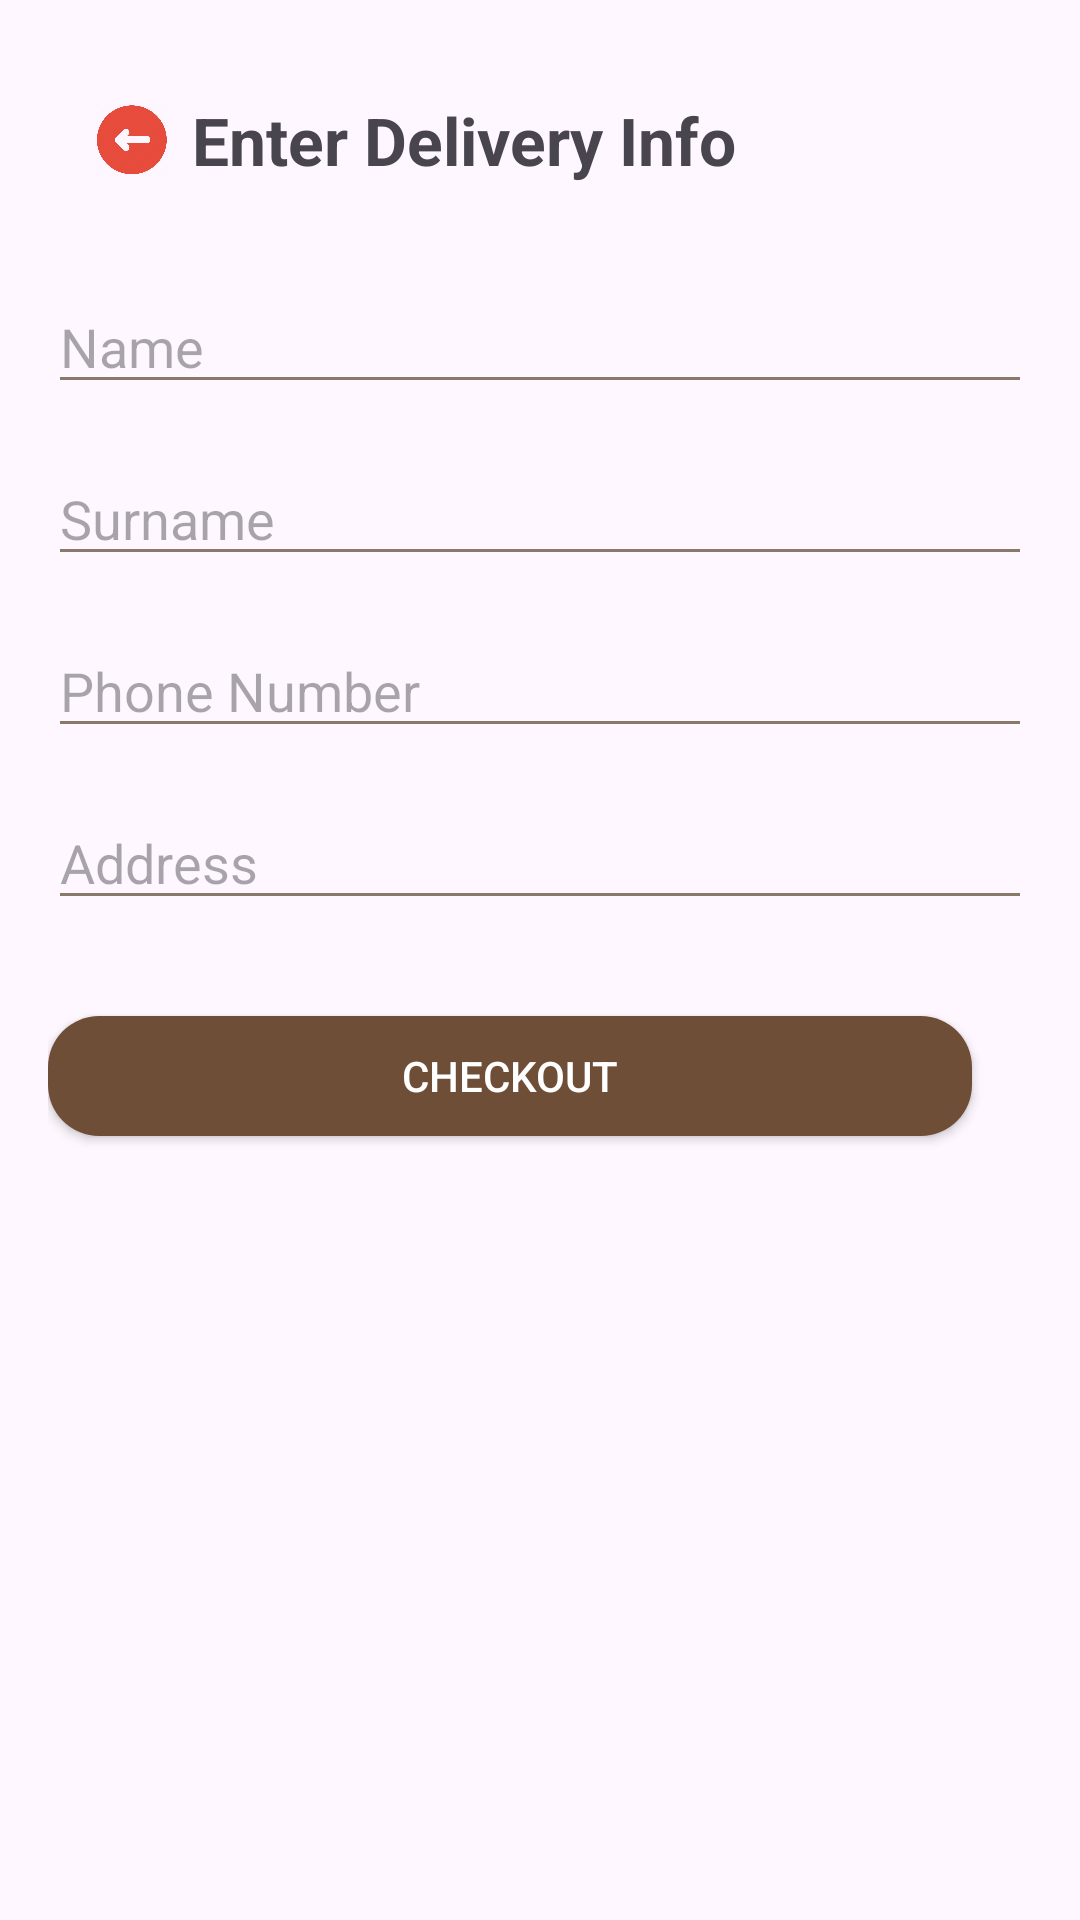

Icons on this 1080*1920 Android screen, each with the point to tap as [x,y]:
Back: [132,139]
